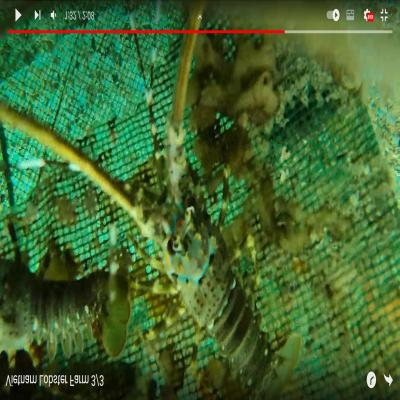lobster: (145, 133, 269, 382)
